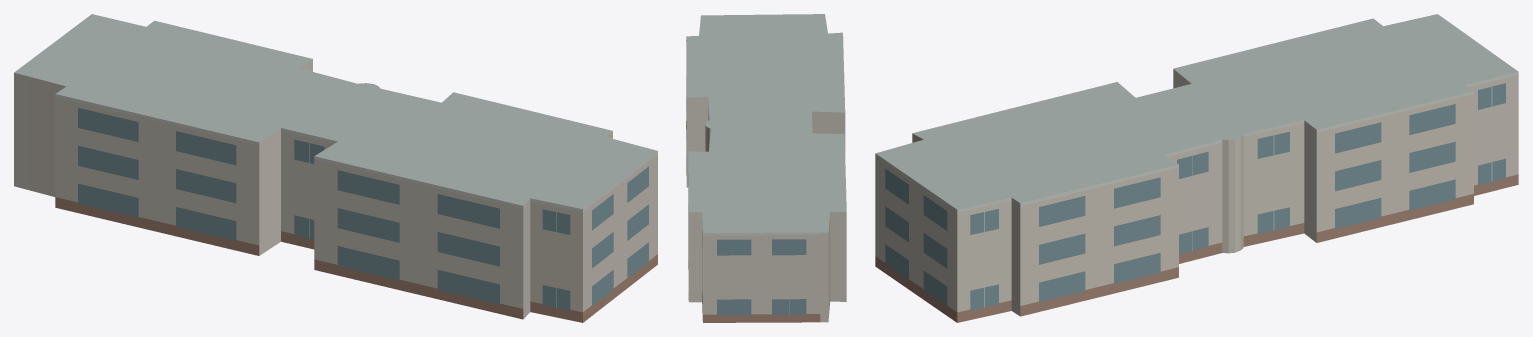
Rendered from survey-upis-32963986.glb.
3 renders of one model, left to right at view 1: azimuth 30°, elevation 25°; view 2: azimuth 150°, elevation 25°; view 3: azimuth 270°, elevation 25°, orthographic. The views are drawn at different scales.
Parts seen in each view (by area): view 1: survey-upis-32963986.tmp; view 2: survey-upis-32963986.tmp; view 3: survey-upis-32963986.tmp.
Boxes of the visible parts, x1=… form: survey-upis-32963986.tmp: x1=14, y1=14, x2=657, y2=322; survey-upis-32963986.tmp: x1=686, y1=14, x2=846, y2=322; survey-upis-32963986.tmp: x1=875, y1=14, x2=1518, y2=322.
Size of the model in its own units: 33.92 by 9.15 by 47.09.
